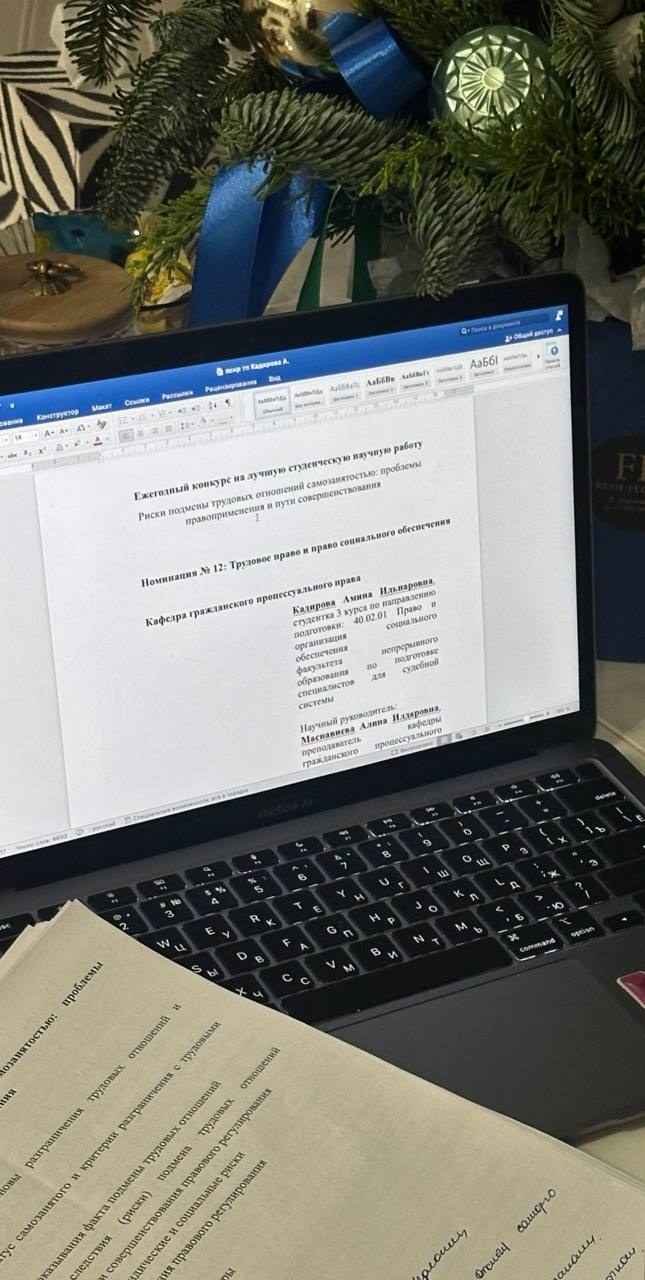laptop: (1, 269, 644, 1144)
